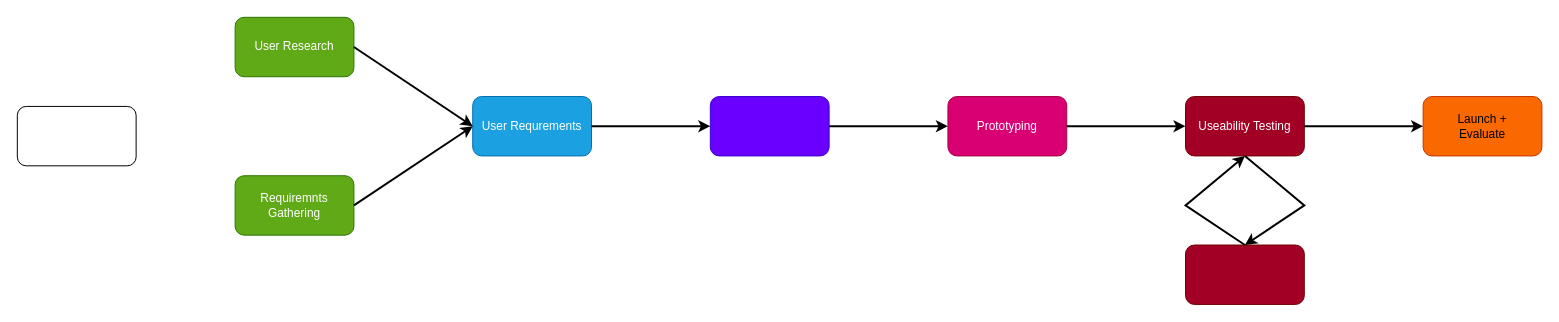
Some shapes in this 1559 by 322 pixel diagram are drawn without their labels. The shapes that lost their labels are listed below. From the top down, each one's box as (x1, y1, x2, y2) in pixels, then its label:
(16, 105, 136, 166): Discovery
(709, 96, 829, 156): UX Design
(1185, 244, 1304, 304): Refine Prototype
